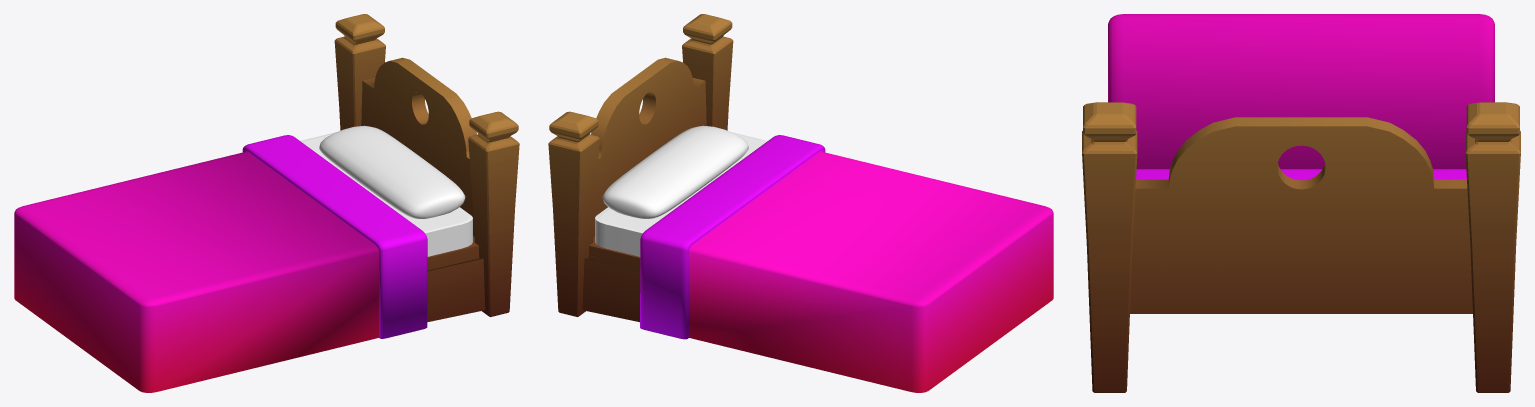
File: SM_Cama.fbx
The picture shows the model from 3 angles, left to right: view 1: azimuth 30°, elevation 25°; view 2: azimuth 150°, elevation 25°; view 3: azimuth 270°, elevation 25°; orthographic projection. The views are drawn at different scales.
Parts seen in each view (by area): view 1: Cama; view 2: Cama; view 3: Cama.
Boxes of the visible parts, <box> form: Cama: <box>14,14,519,392</box>; Cama: <box>548,14,1053,392</box>; Cama: <box>1082,14,1520,392</box>.
Bounding box in the file's own units: 275 × 139 × 199.
